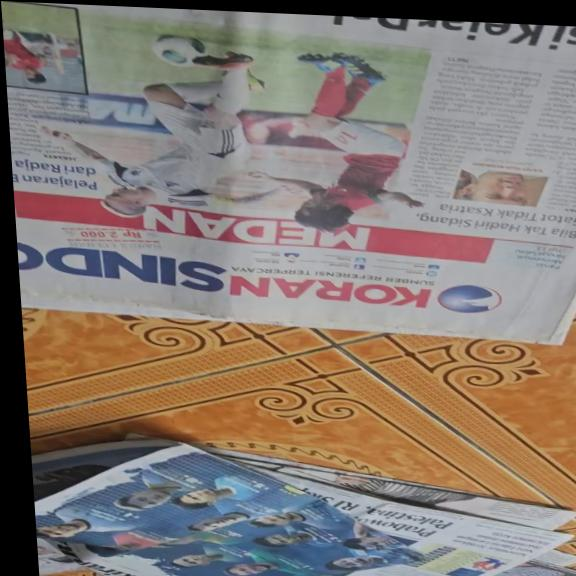Kertas: (11, 1, 576, 335), (384, 44, 576, 244)
